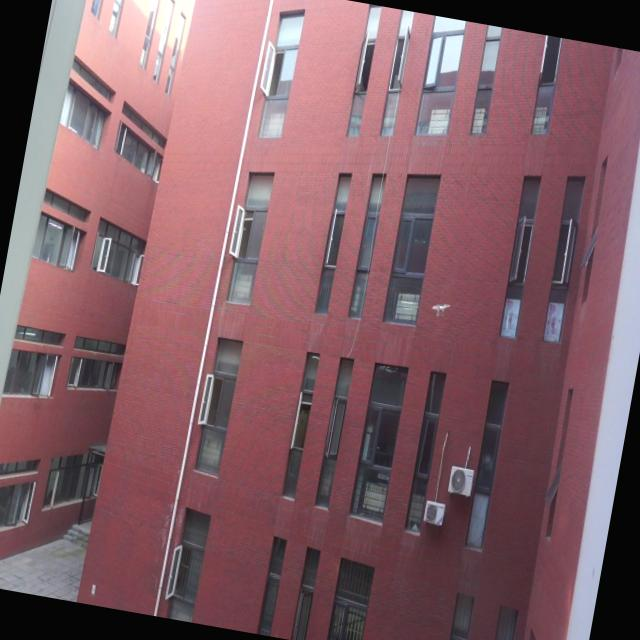drone: (427, 298, 452, 322)
